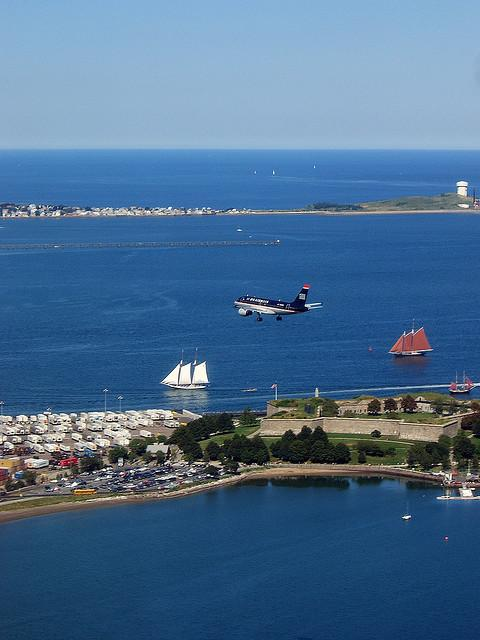airplane: (231, 283, 324, 323)
